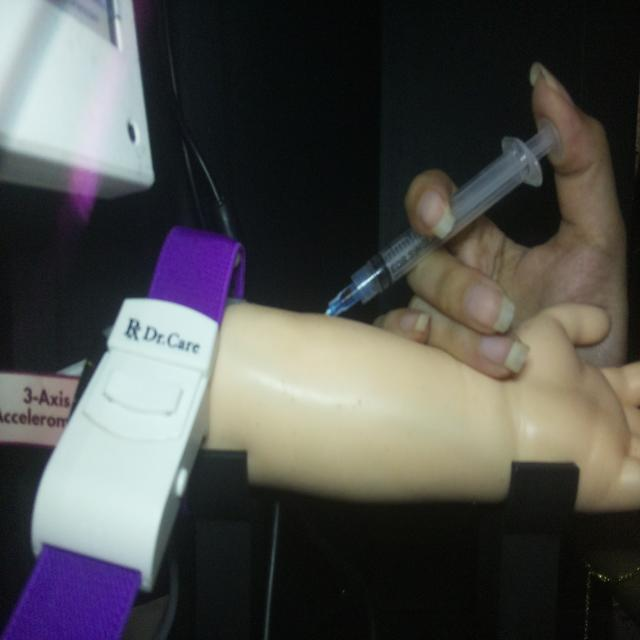27 degrees: (322, 116, 562, 320)
